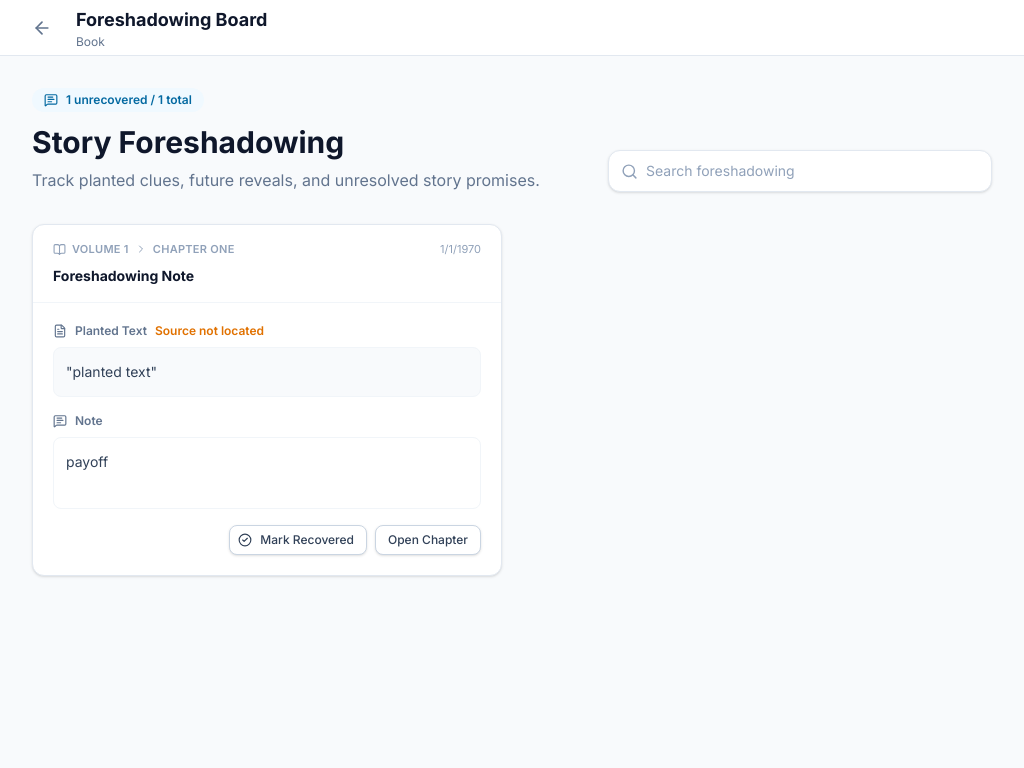
Test: Foreshadowing board recovery saving › shows an explicit retry action when the save fails
The image size is (1024, 768).
Click the button "Mark Recovered" at (298,540), box left=229, top=524, right=367, bottom=554
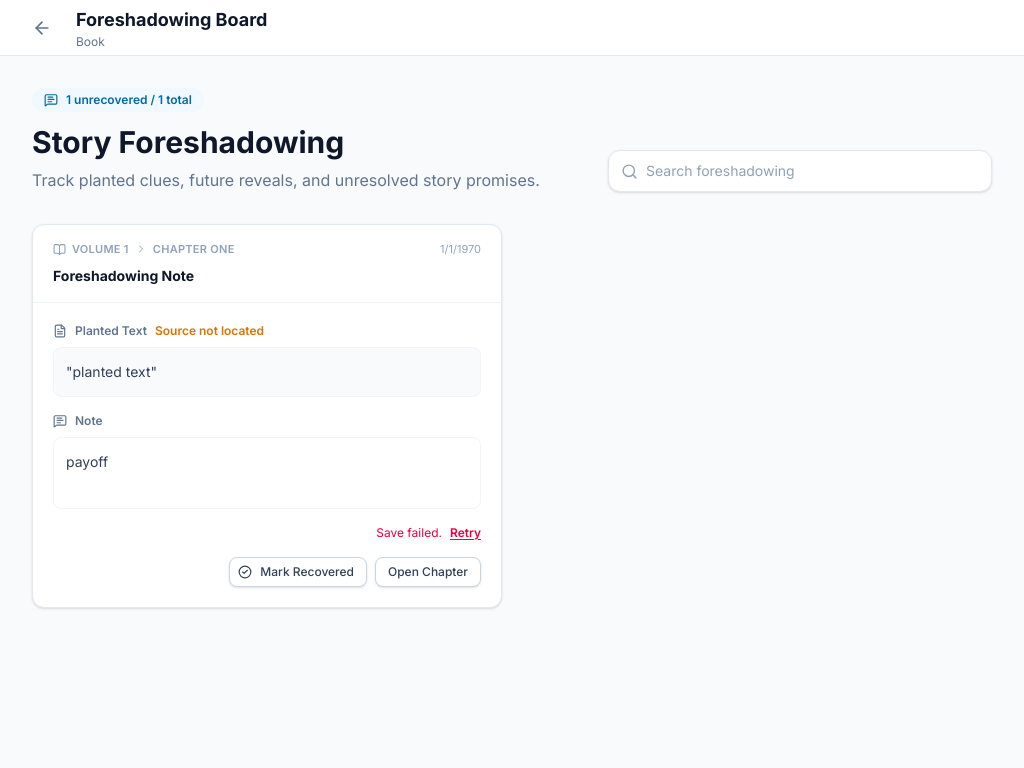
Result: the text "Save failed." is shown at left=376, top=524, right=442, bottom=540
Click the button "Retry" at (466,532), box left=450, top=524, right=481, bottom=540
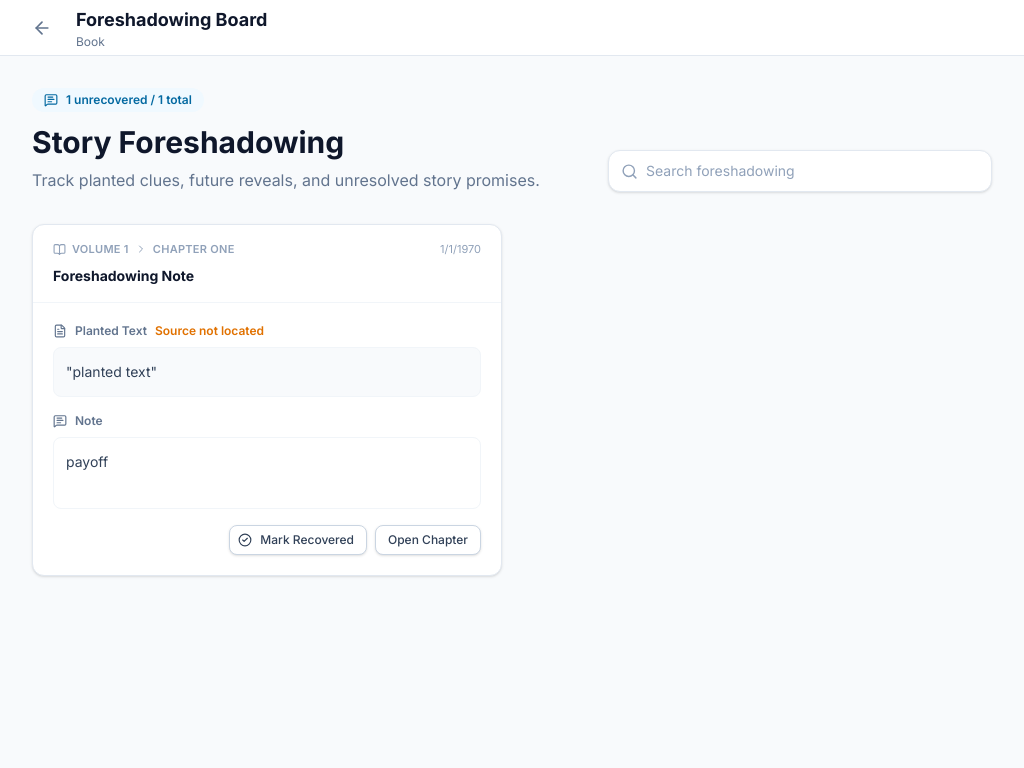
Result: the text "Save failed." is gone
